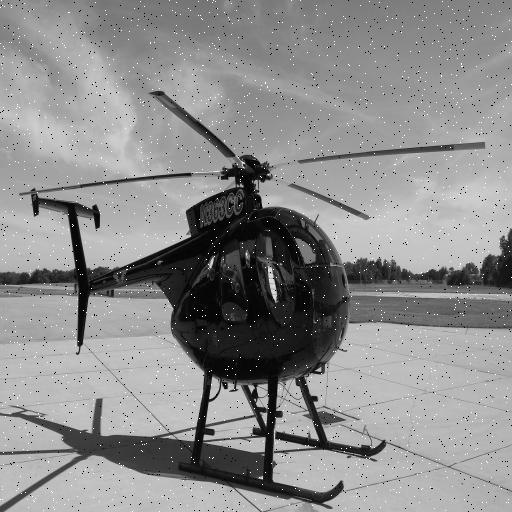helicopter: (20, 92, 489, 505)
